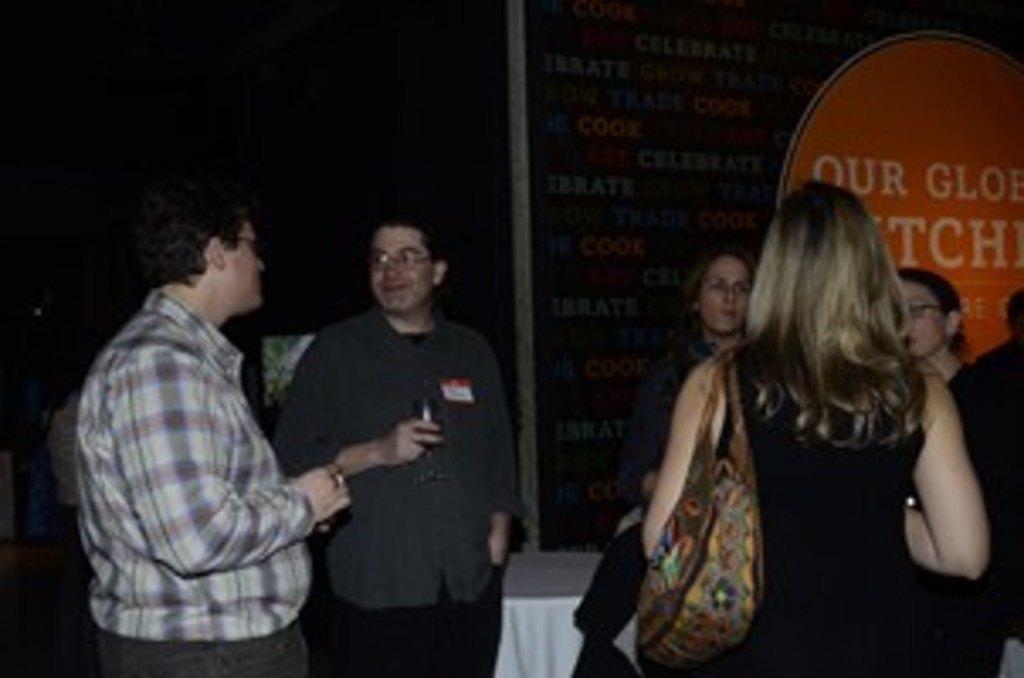Person: (567, 252, 759, 678)
